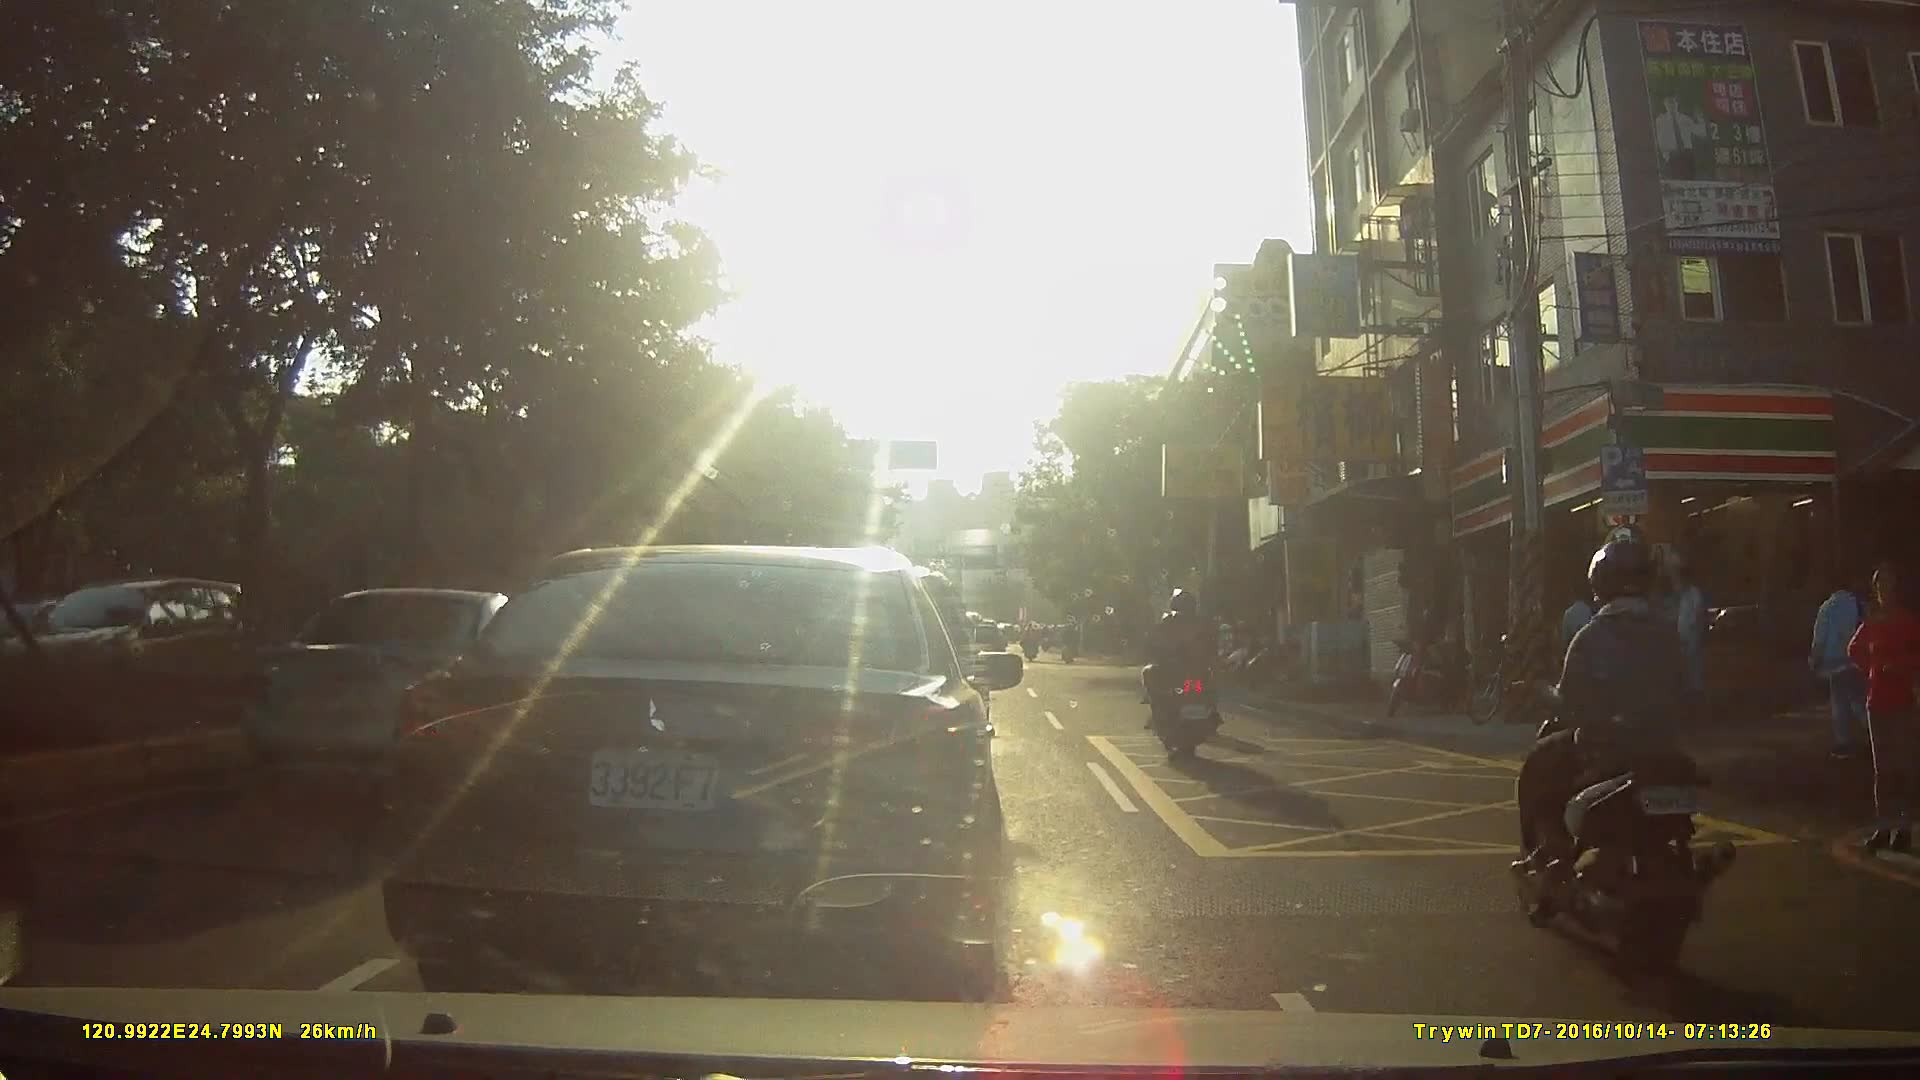pedestrian: (1843, 567, 1920, 854), (1804, 571, 1874, 768), (1556, 579, 1608, 715), (1610, 574, 1655, 708), (1651, 569, 1690, 707), (1665, 569, 1707, 699)
rider: (1511, 537, 1737, 987), (1144, 588, 1225, 763), (1060, 619, 1082, 664), (1022, 619, 1043, 666)
vehicle: (381, 540, 1038, 984), (226, 579, 608, 816), (10, 575, 252, 721)
